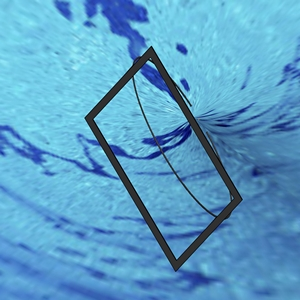circle: (83, 45, 243, 273)
